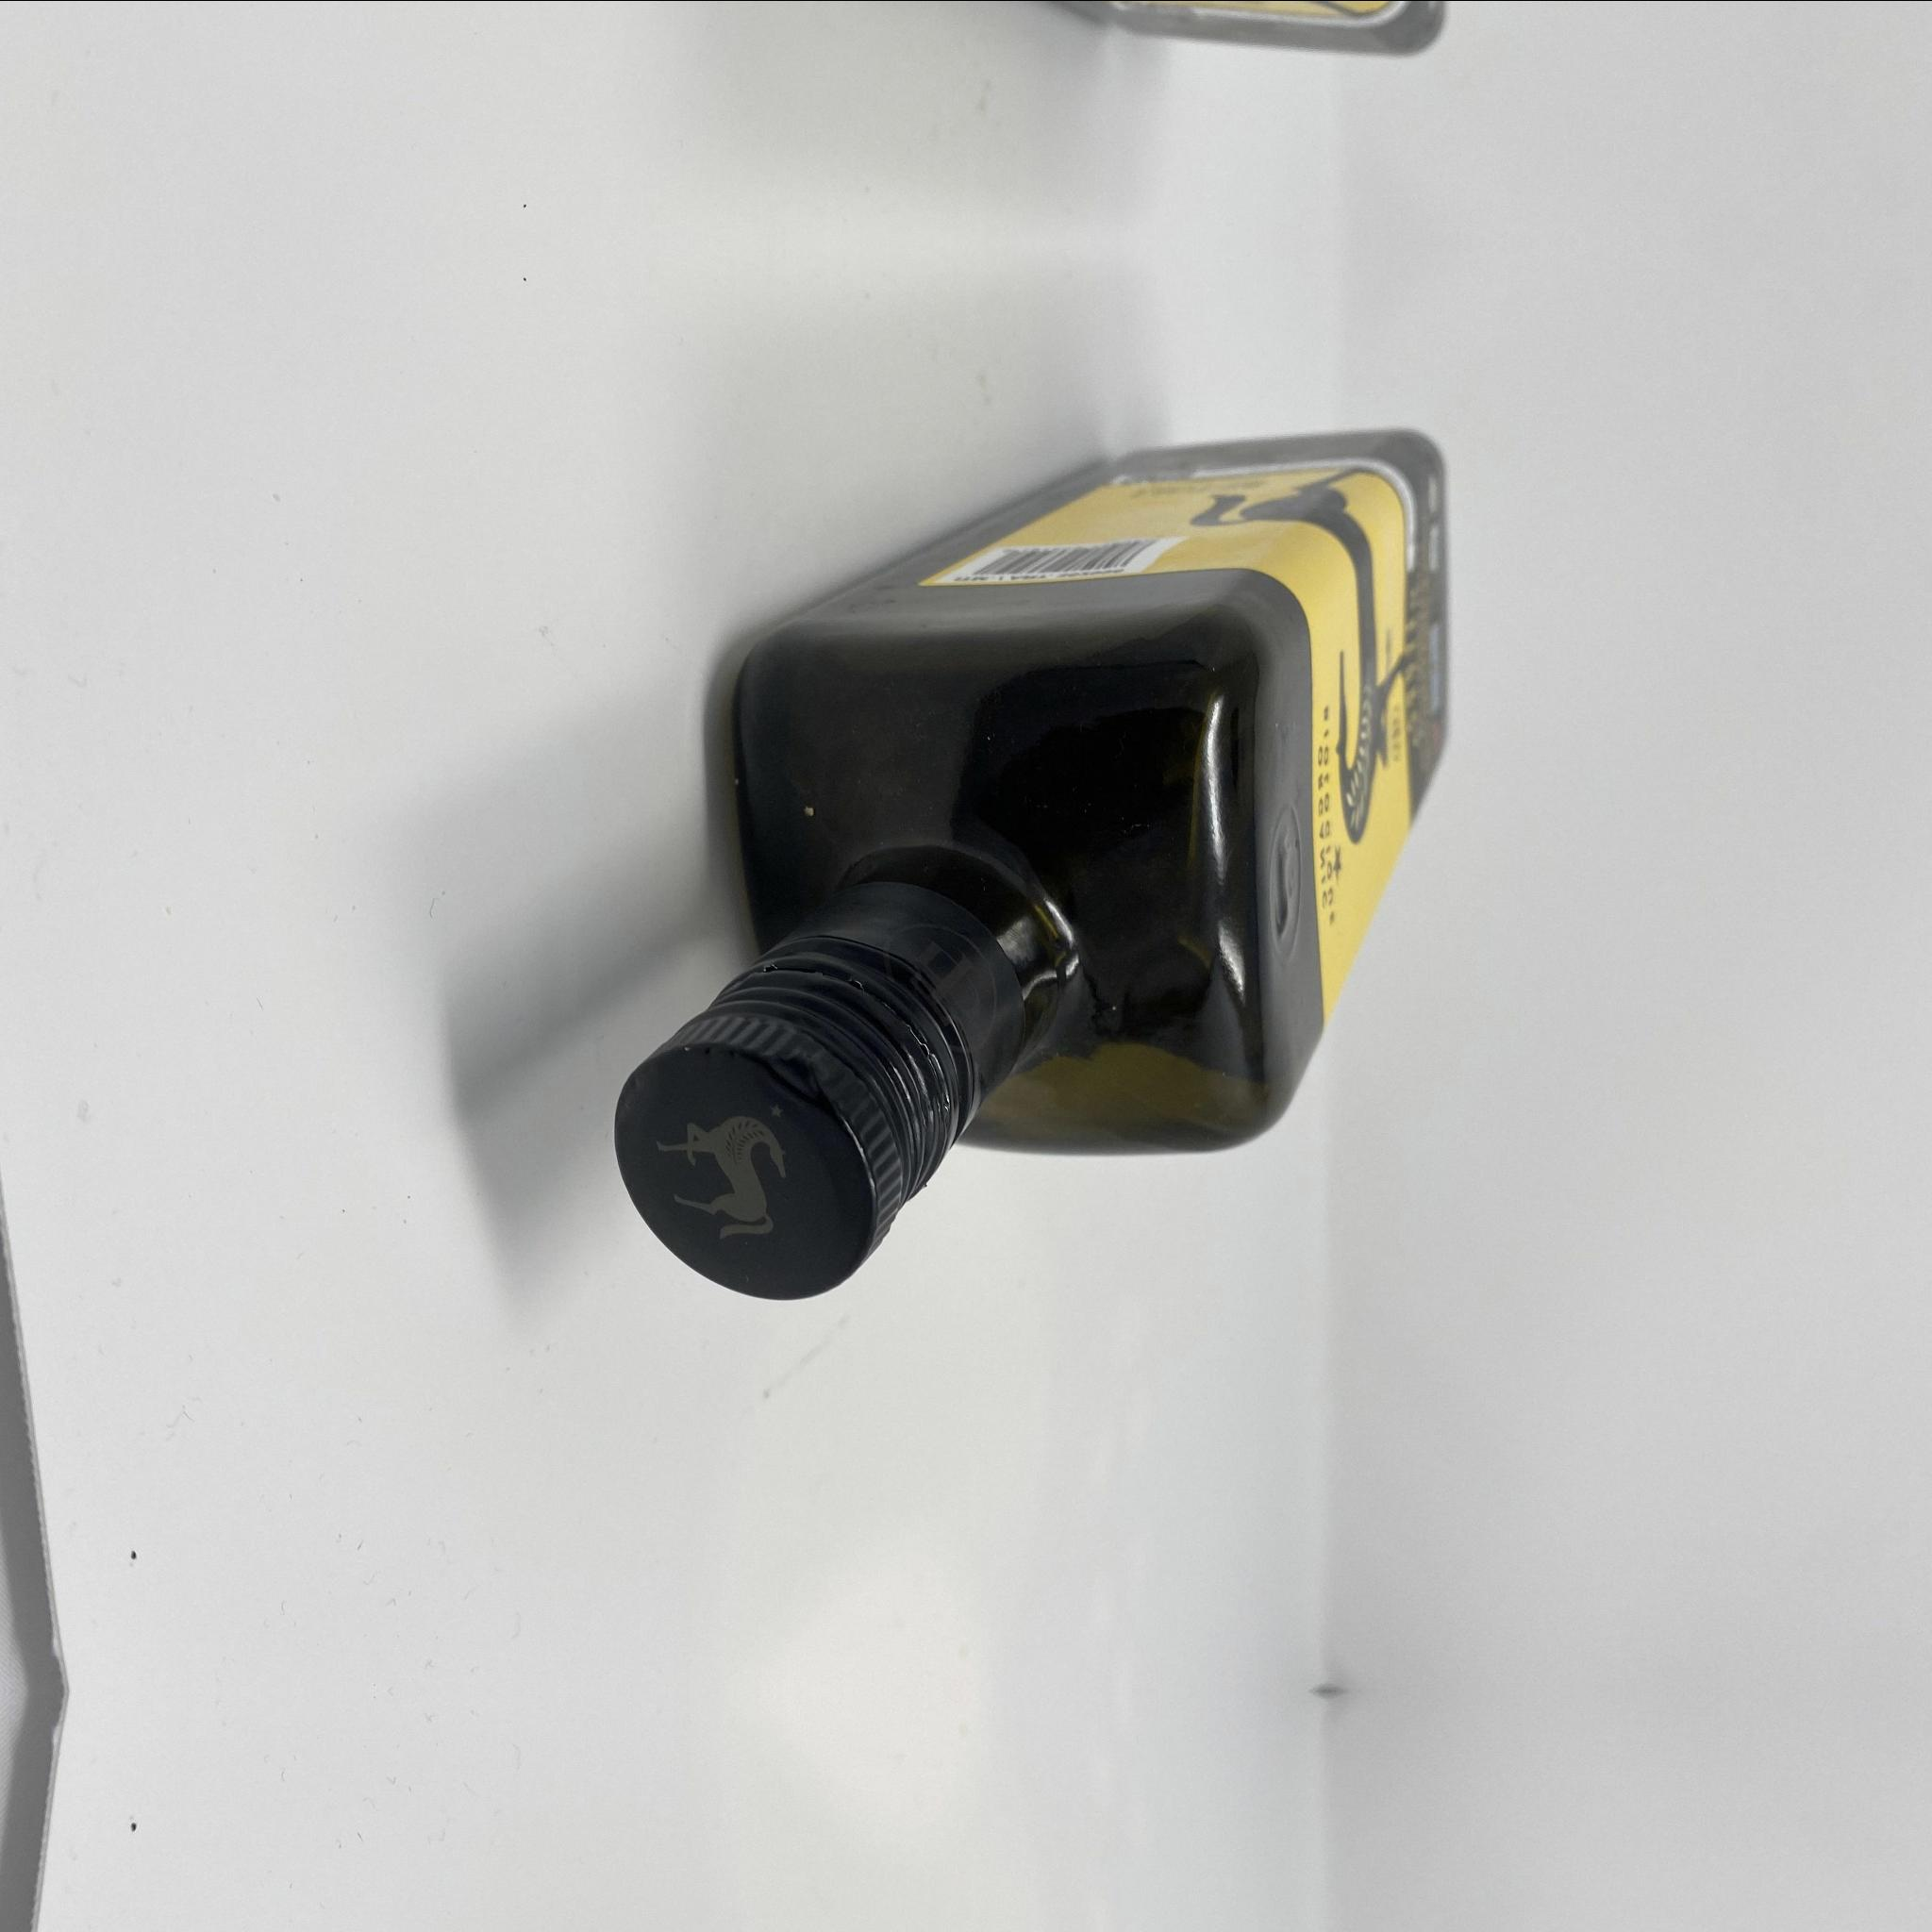glass: (609, 426, 1449, 1299)
oil: (609, 426, 1449, 1299)
sodocalcique: (609, 426, 1449, 1299)
